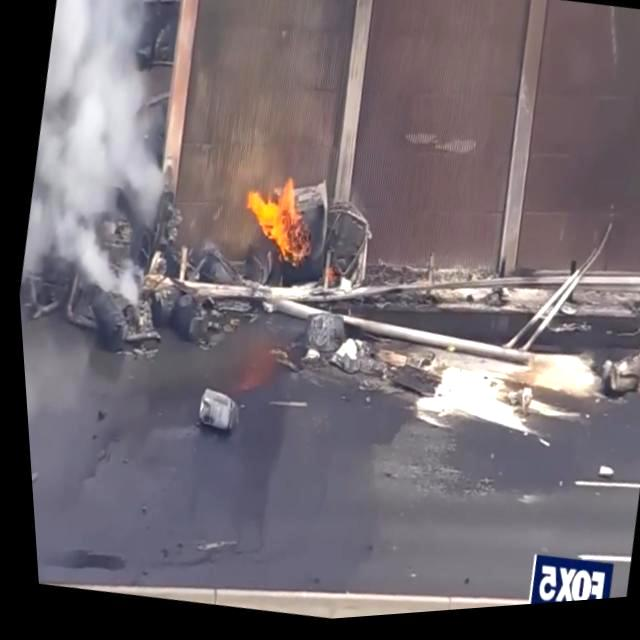fire: (228, 166, 316, 274)
